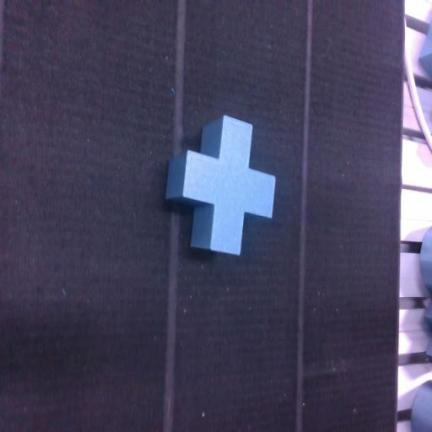cross: (167, 116, 275, 254)
